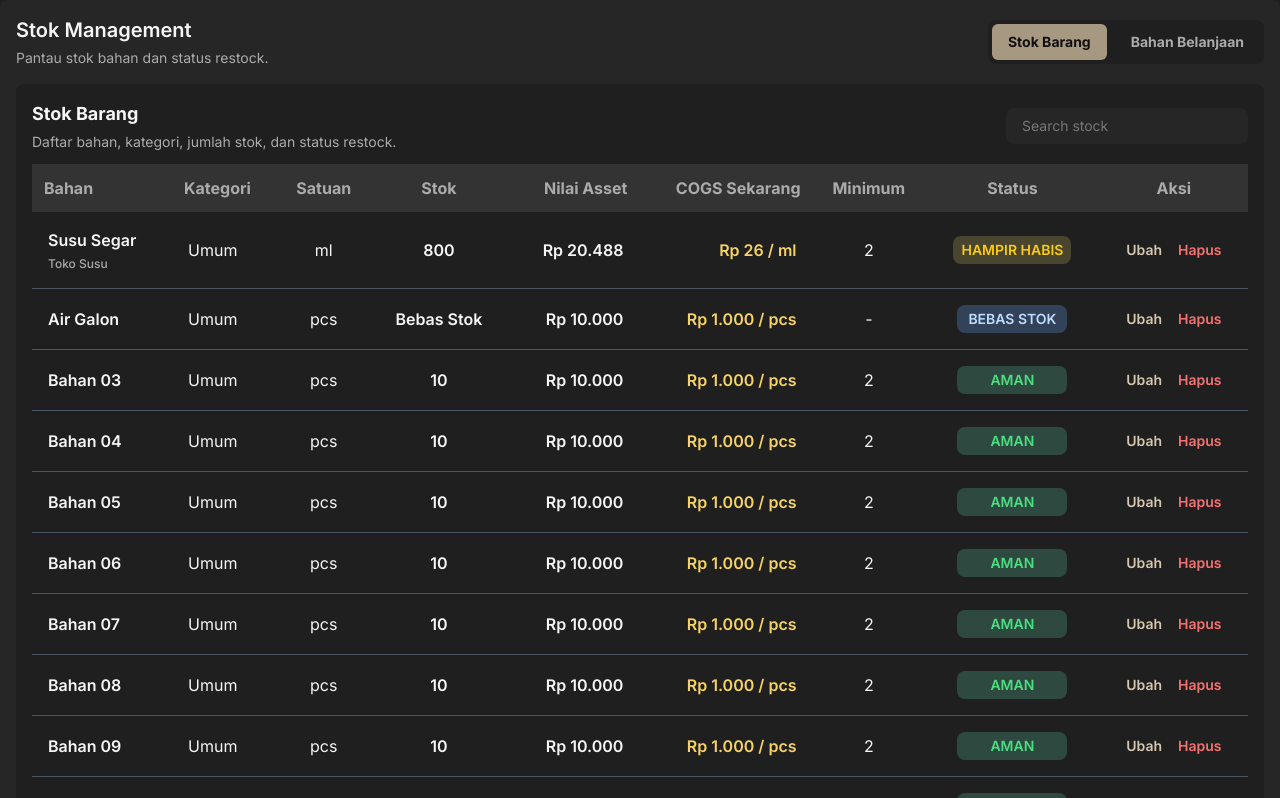
Test case: stock management › rejects an invalid package quantity
The image size is (1280, 798).
Click the button "Ubah" in the row of "Air Galon": (1144,319) left=1126, top=309, right=1162, bottom=329
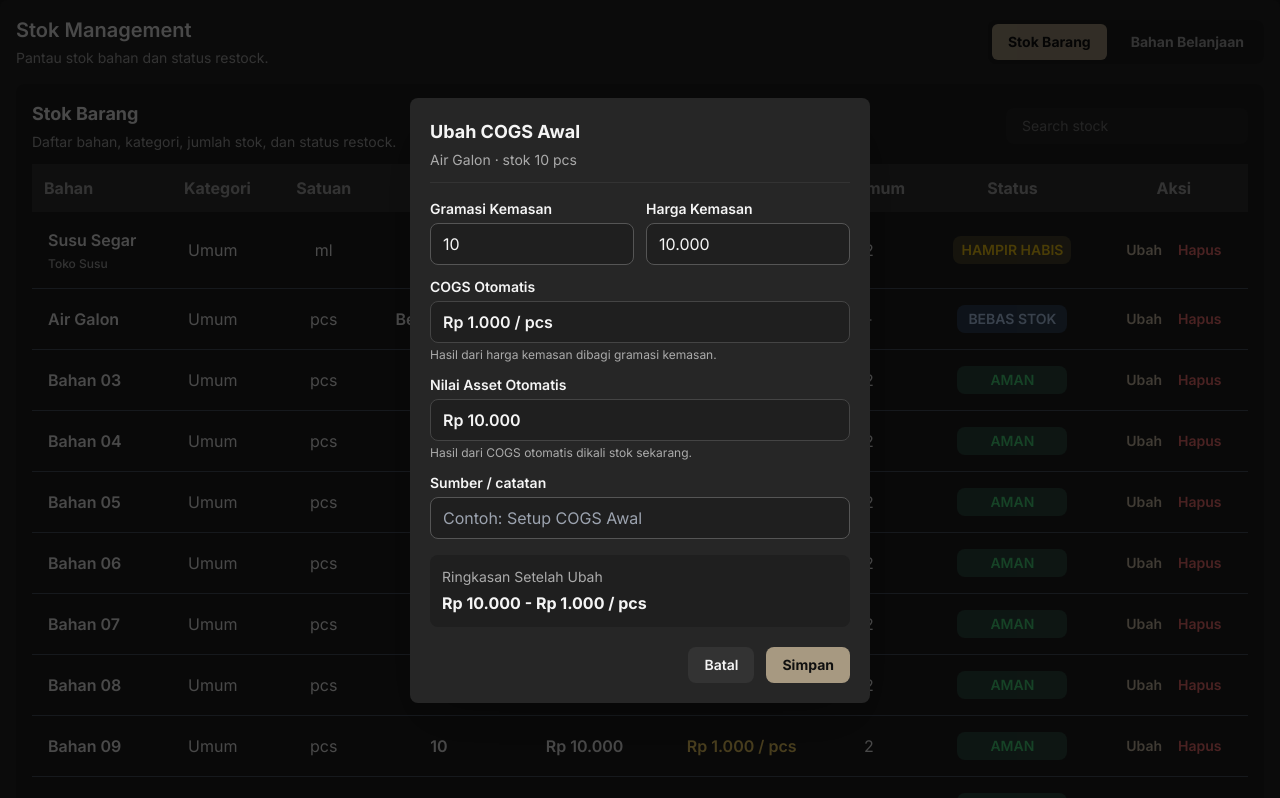
Replace the text in the field with placeholder "Contoh: 800 pcs" with "0": (532,244) left=430, top=222, right=634, bottom=264
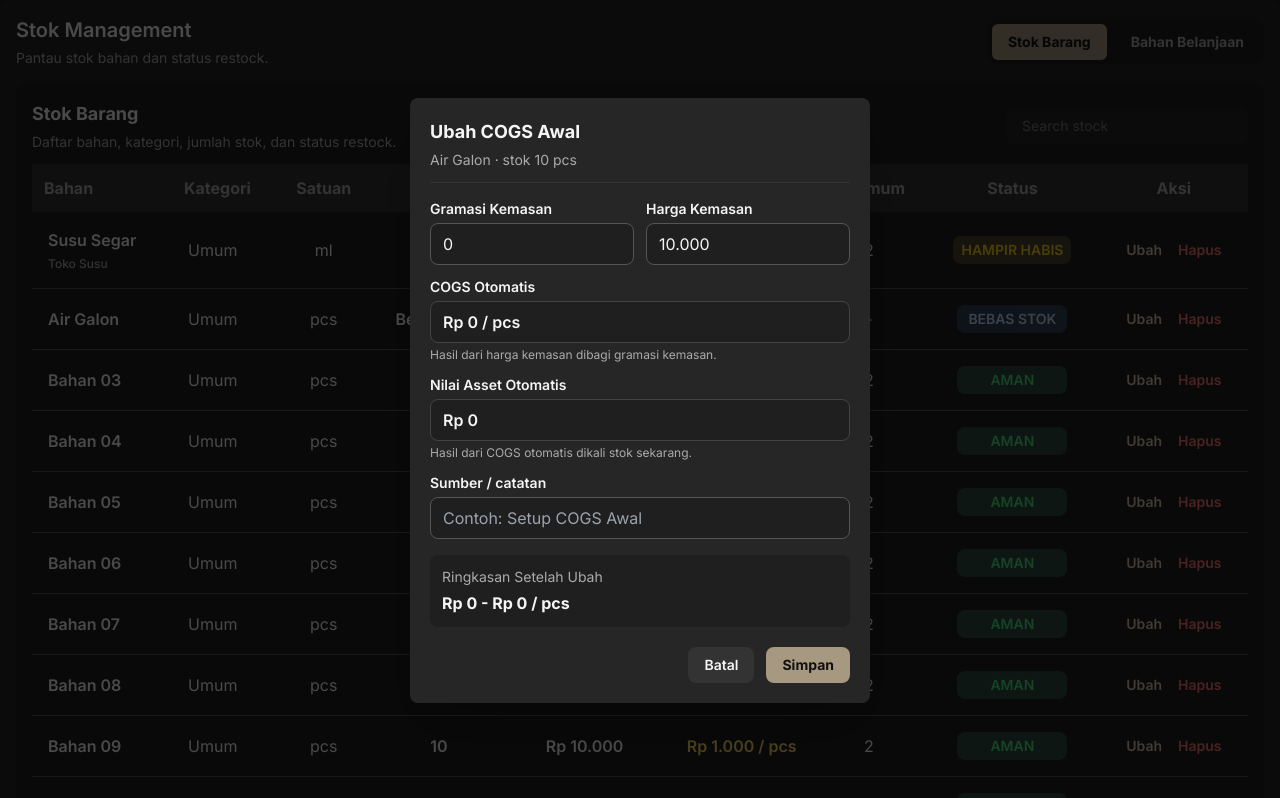
Click the button "Simpan": (808,664) left=766, top=646, right=850, bottom=682
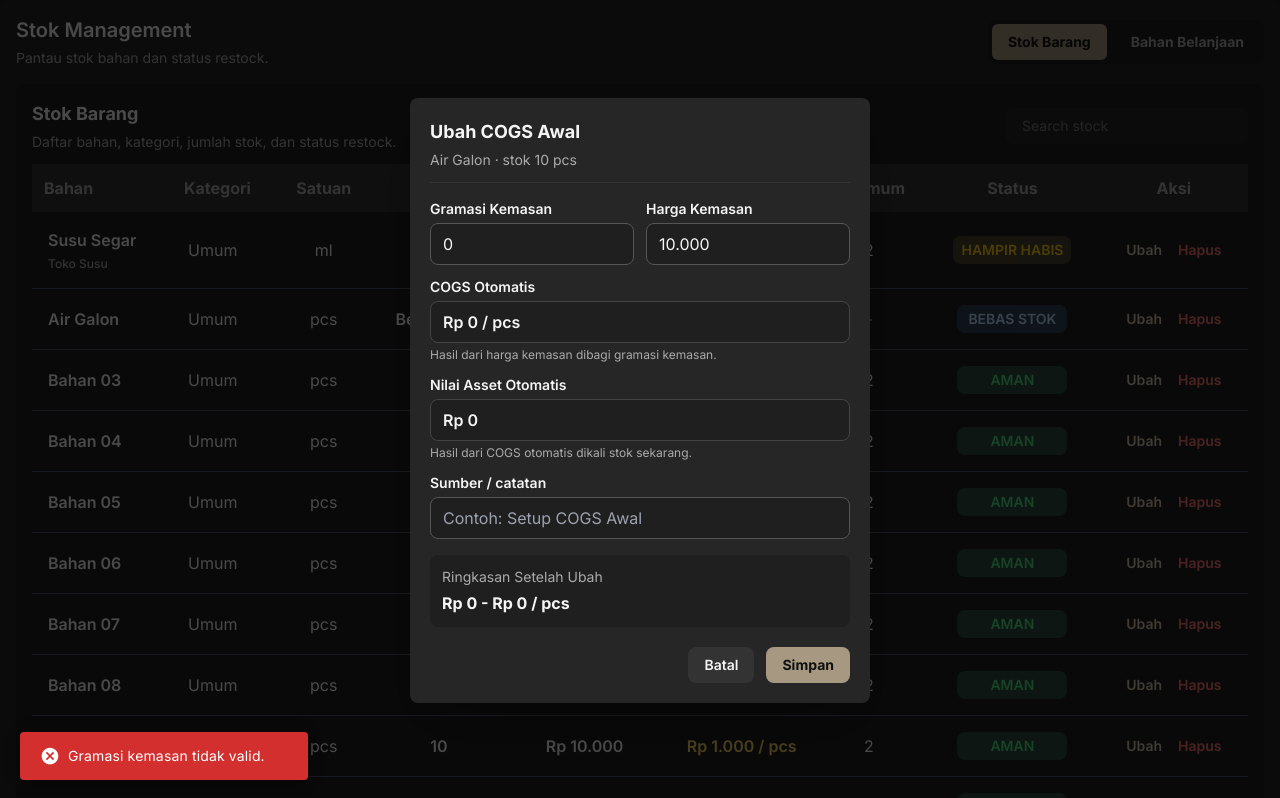
Result: the text "Gramasi kemasan tidak valid." is shown at left=40, top=746, right=265, bottom=766
